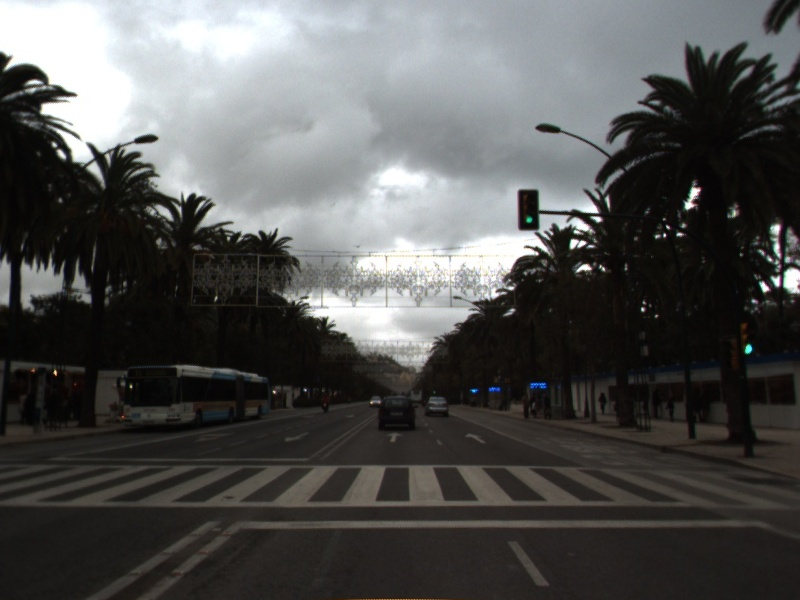STRAIGHT: (463, 431, 488, 445), (384, 430, 405, 444)
